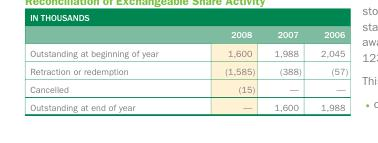table: (29, 29, 347, 112)
table column: (29, 29, 190, 112), (190, 29, 263, 112), (263, 29, 310, 112), (310, 29, 347, 112)
table column header: (29, 29, 347, 43)
table row: (29, 43, 347, 61), (29, 61, 347, 79), (29, 79, 347, 97), (29, 97, 347, 112), (29, 29, 347, 43)
